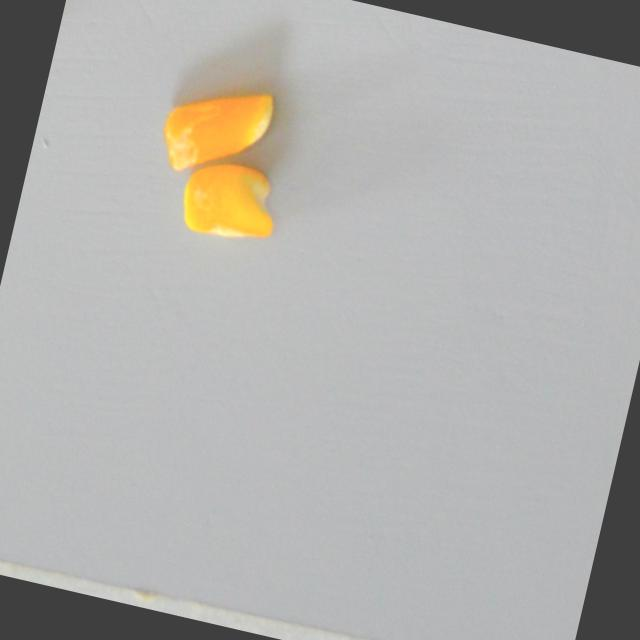pelicula: (146, 65, 277, 188), (166, 135, 296, 254)
